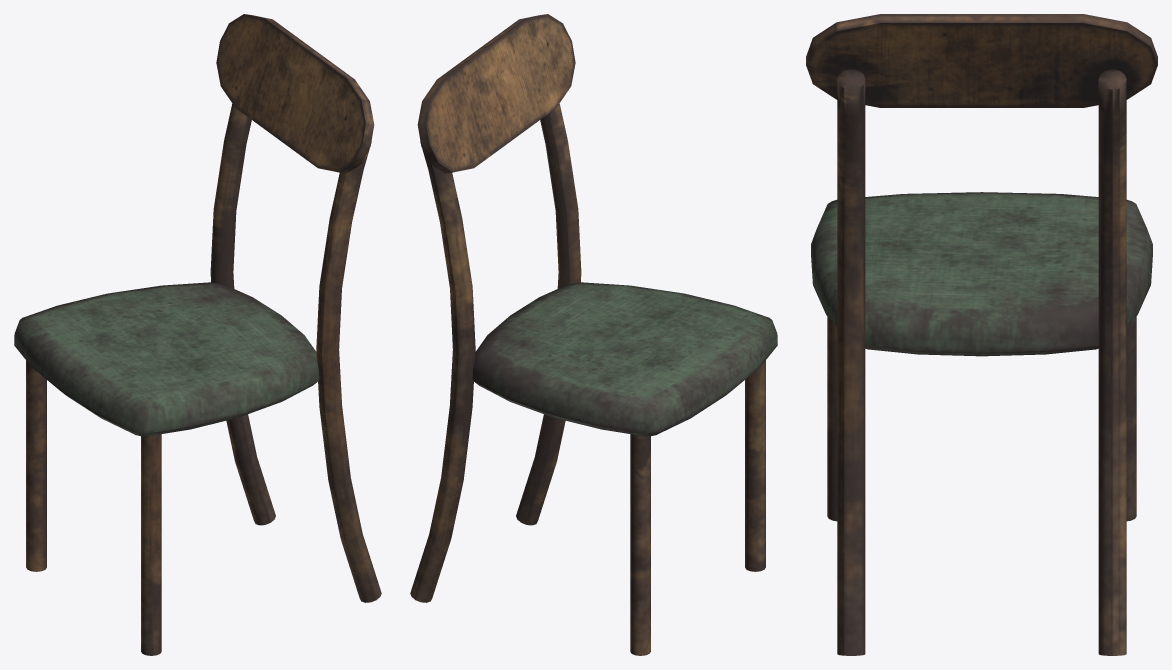
The model's file is S_CafeChairB.fbx.
3 renders of one model, left to right at view 1: azimuth 30°, elevation 25°; view 2: azimuth 150°, elevation 25°; view 3: azimuth 270°, elevation 25°, orthographic. The views are drawn at different scales.
Parts seen in each view (by area): view 1: S_CafeChairB; view 2: S_CafeChairB; view 3: S_CafeChairB.
Part boxes in pixels (box(x1,y1,x2,y2)): S_CafeChairB: box(14, 14, 381, 655); S_CafeChairB: box(410, 14, 777, 655); S_CafeChairB: box(806, 14, 1157, 655).
Size of the model in its own units: 19.17 by 35.47 by 17.75.
